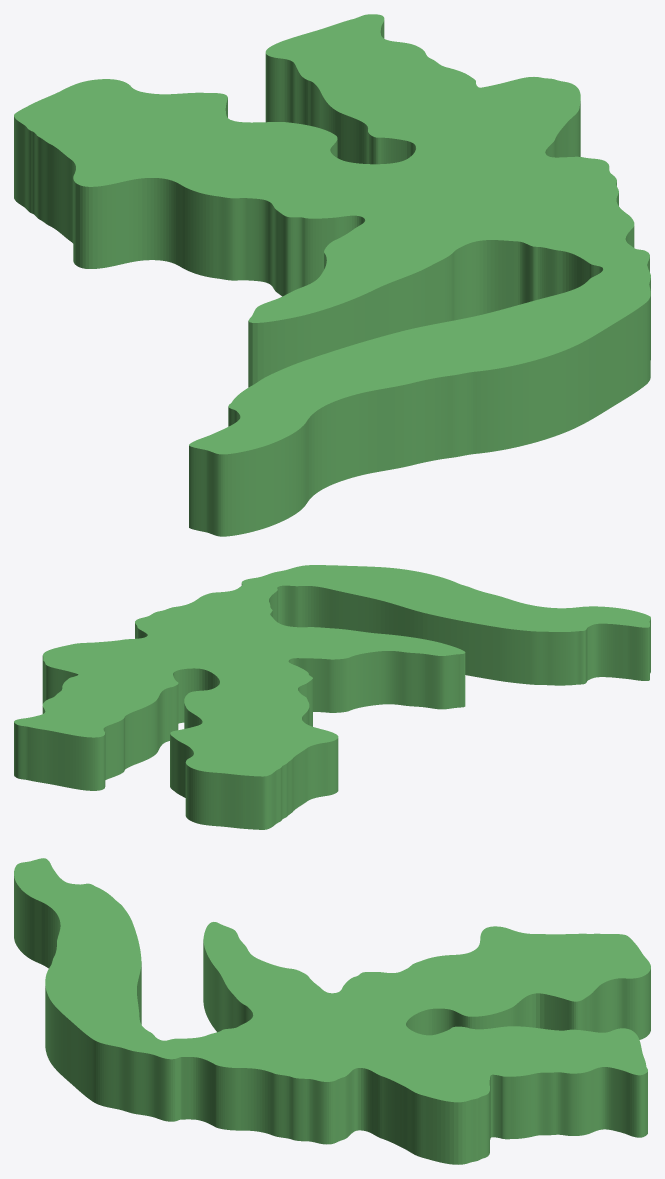
File: pulau-sulawesi.fbx
3 views of the same model, one above another, from view 1: azimuth 30°, elevation 25°; view 2: azimuth 150°, elevation 25°; view 3: azimuth 270°, elevation 25° (orthographic). The views are drawn at different scales.
Parts seen in each view (by area): view 1: sulawesi; view 2: sulawesi; view 3: sulawesi.
Part boxes in pixels (bbox=[...]): sulawesi: bbox=[14, 14, 650, 536]; sulawesi: bbox=[14, 565, 650, 829]; sulawesi: bbox=[14, 858, 650, 1164].
Bounding box in the file's own units: 39.88 × 4.76 × 43.96.
